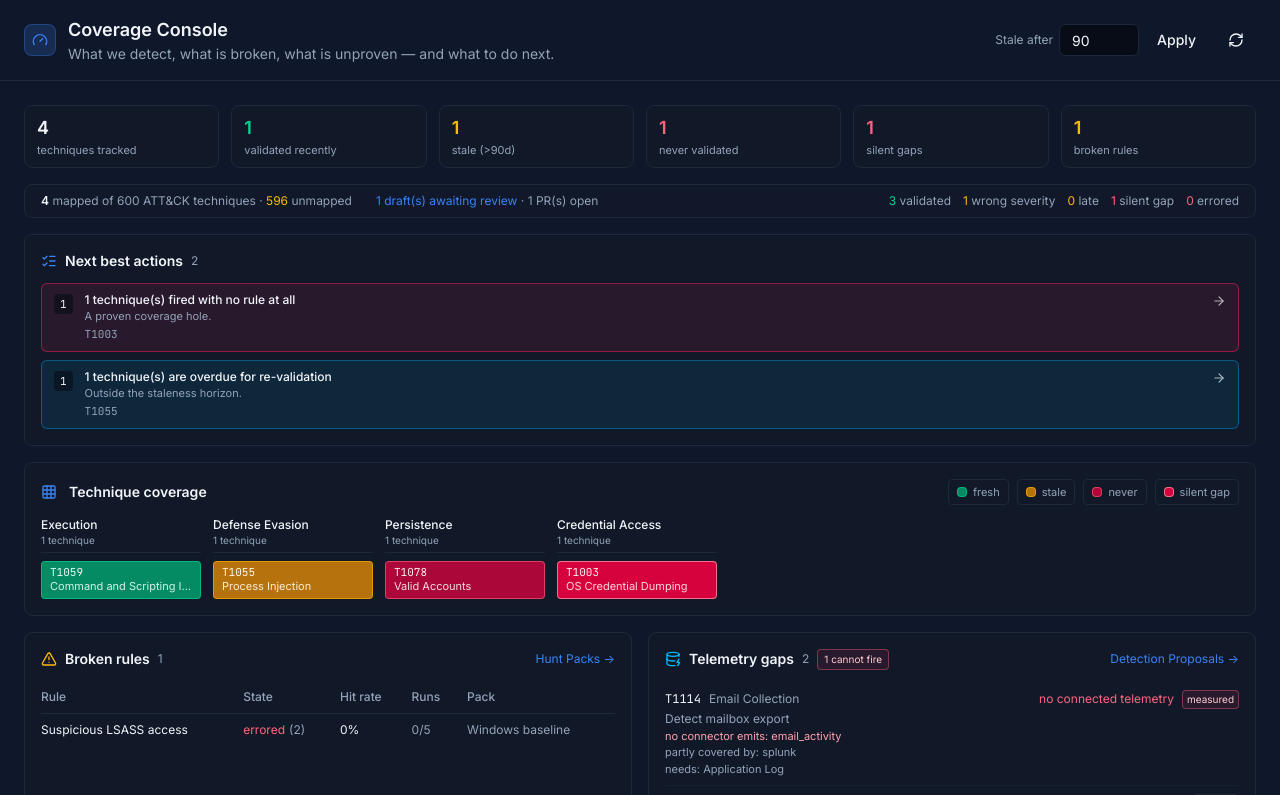
CoverageConsolePage › describes a never-validated technique as such, not as 'today'
Check: the element with test id "coverage-heatmap" is shown, box [24,462,1256,616]
Step 1. Click the button with test id "coverage-cell-T1078" → [465, 580], box [385,561,545,598]
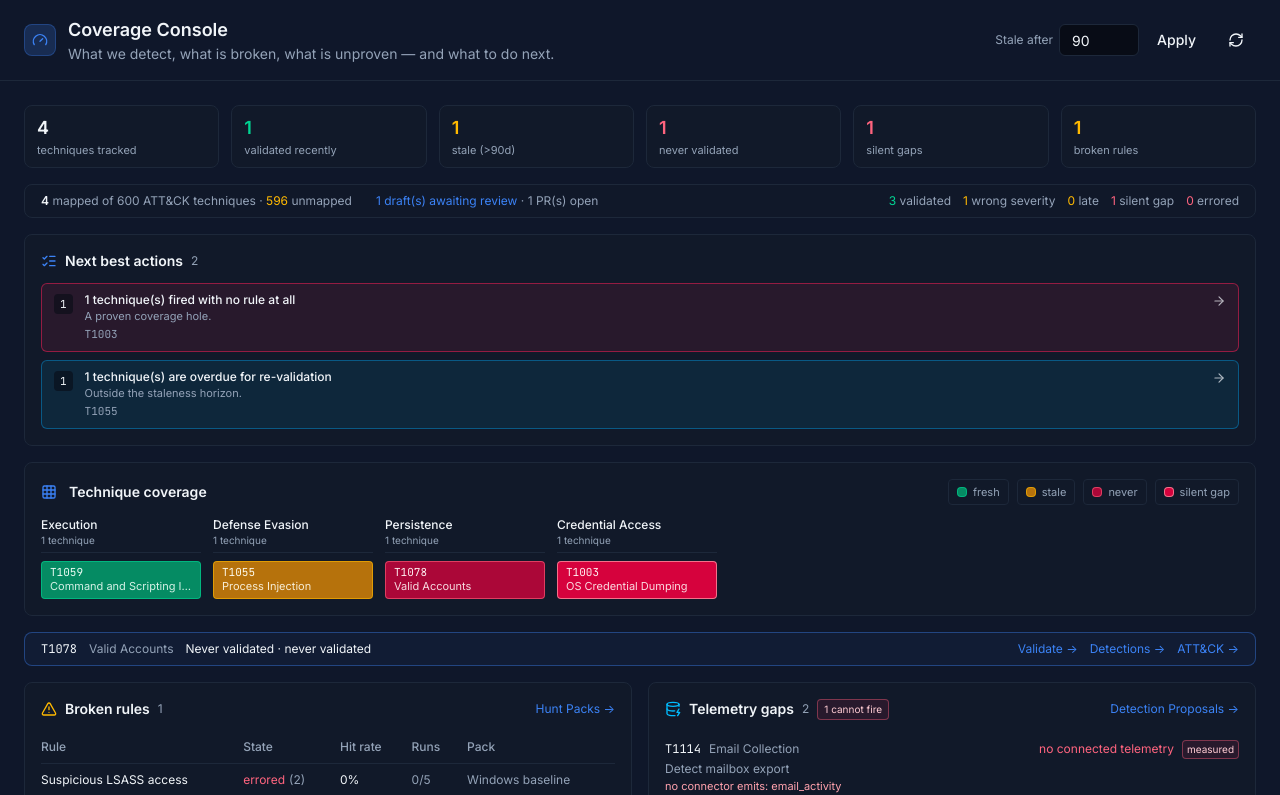
Check: the text with test id "coverage-selected-status" shows "Never validated", box [186,640,274,656]
